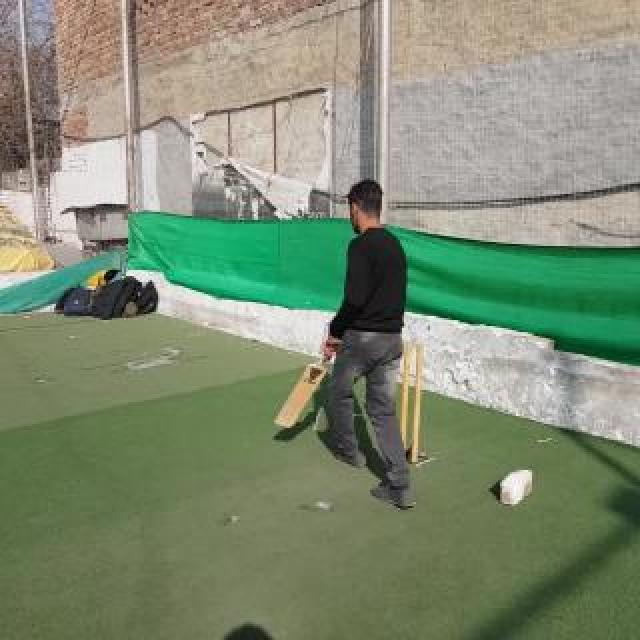ball: (253, 311, 259, 321)
bat: (274, 353, 328, 427)
